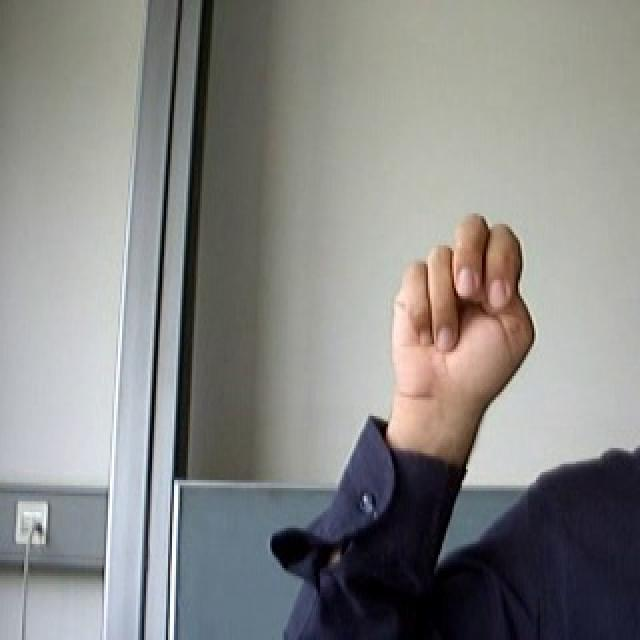N: (374, 186, 544, 462)
